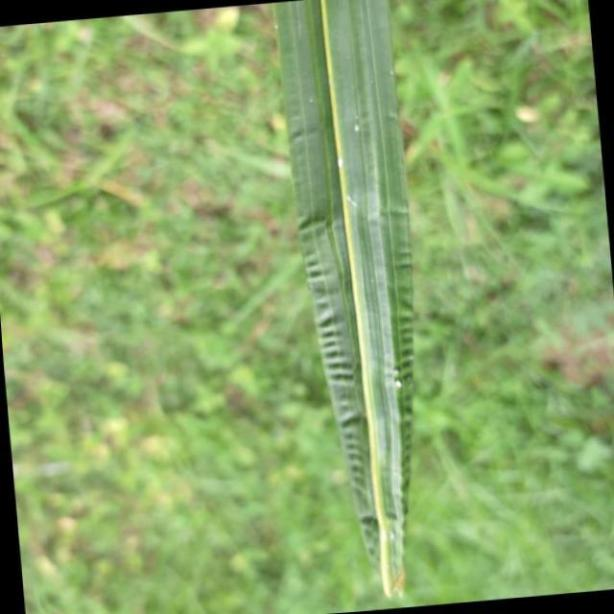Boron: (272, 0, 414, 603)
